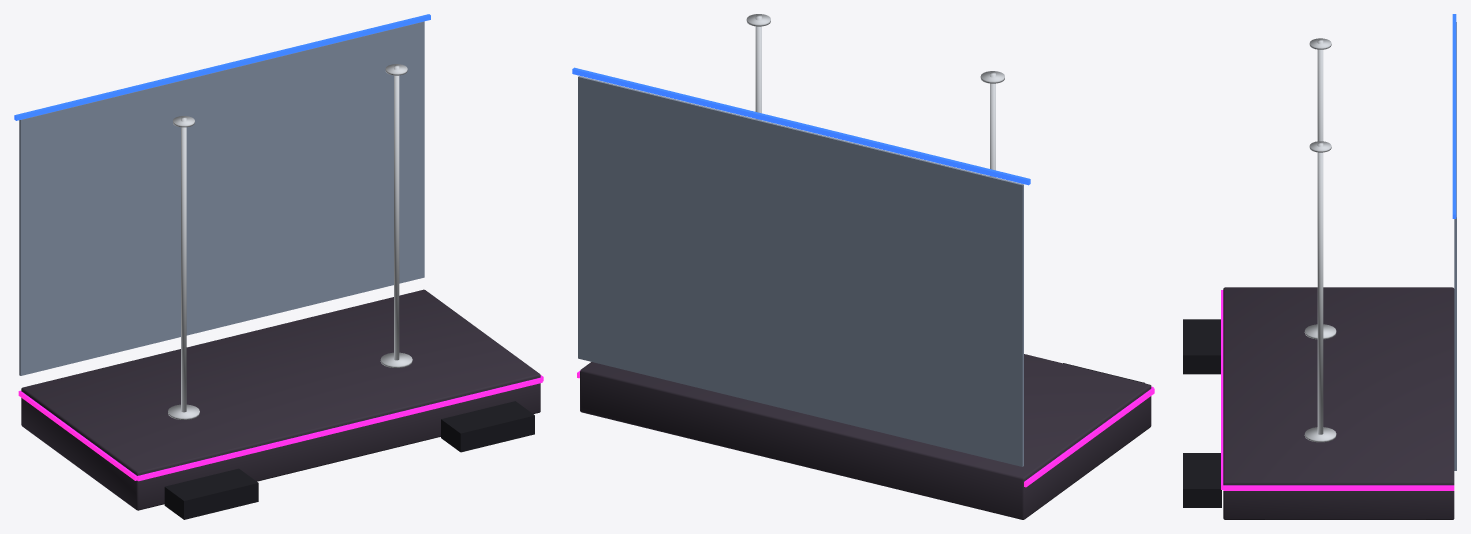
File: palco.glb
3 views of the same model, side by side, from view 1: azimuth 30°, elevation 25°; view 2: azimuth 150°, elevation 25°; view 3: azimuth 270°, elevation 25° (orthographic). The views are drawn at different scales.
Visible parts, largest first — view 1: Palco_Espelho, Palco, Palco_Degrau, Palco_Degrau.001, Palco_LED_Espelho, Palco_LED_Frente, Pole_Dance.001, Pole_Dance, Palco_LED_Lado; view 2: Palco_Espelho, Palco, Palco_LED_Espelho, Palco_LED_Lado; view 3: Palco, Palco_Degrau, Palco_Degrau.001, Pole_Dance.001, Palco_LED_Lado.001, Palco_LED_Espelho, Palco_Espelho, Pole_Dance, Palco_LED_Frente, Pole_Dance_Base.001, Pole_Dance_Base.
Boxes of the visible parts, x1,y1,x2,y2 form: Palco_Espelho: (19, 21, 424, 375); Palco: (21, 289, 540, 510); Palco_Degrau: (164, 468, 258, 519); Palco_Degrau.001: (441, 401, 534, 452); Palco_LED_Espelho: (14, 14, 430, 120); Palco_LED_Frente: (137, 377, 542, 481); Pole_Dance.001: (394, 65, 399, 360); Pole_Dance: (181, 117, 186, 412); Palco_LED_Lado: (18, 390, 137, 480); Palco_Espelho: (578, 76, 1023, 466); Palco: (580, 354, 1151, 519); Palco_LED_Espelho: (572, 67, 1030, 185); Palco_LED_Lado: (1024, 388, 1154, 487); Palco: (1223, 287, 1454, 519); Palco_Degrau: (1183, 319, 1220, 374); Palco_Degrau.001: (1183, 453, 1221, 507); Pole_Dance.001: (1317, 142, 1323, 434); Palco_LED_Lado.001: (1223, 485, 1454, 490); Palco_LED_Espelho: (1452, 14, 1456, 218); Palco_Espelho: (1454, 22, 1456, 470); Pole_Dance: (1317, 39, 1323, 141); Palco_LED_Frente: (1221, 290, 1223, 489); Pole_Dance_Base.001: (1304, 427, 1336, 442); Pole_Dance_Base: (1304, 324, 1336, 339).
Size of the model in its own units: 3.9 by 3 by 2.25.
